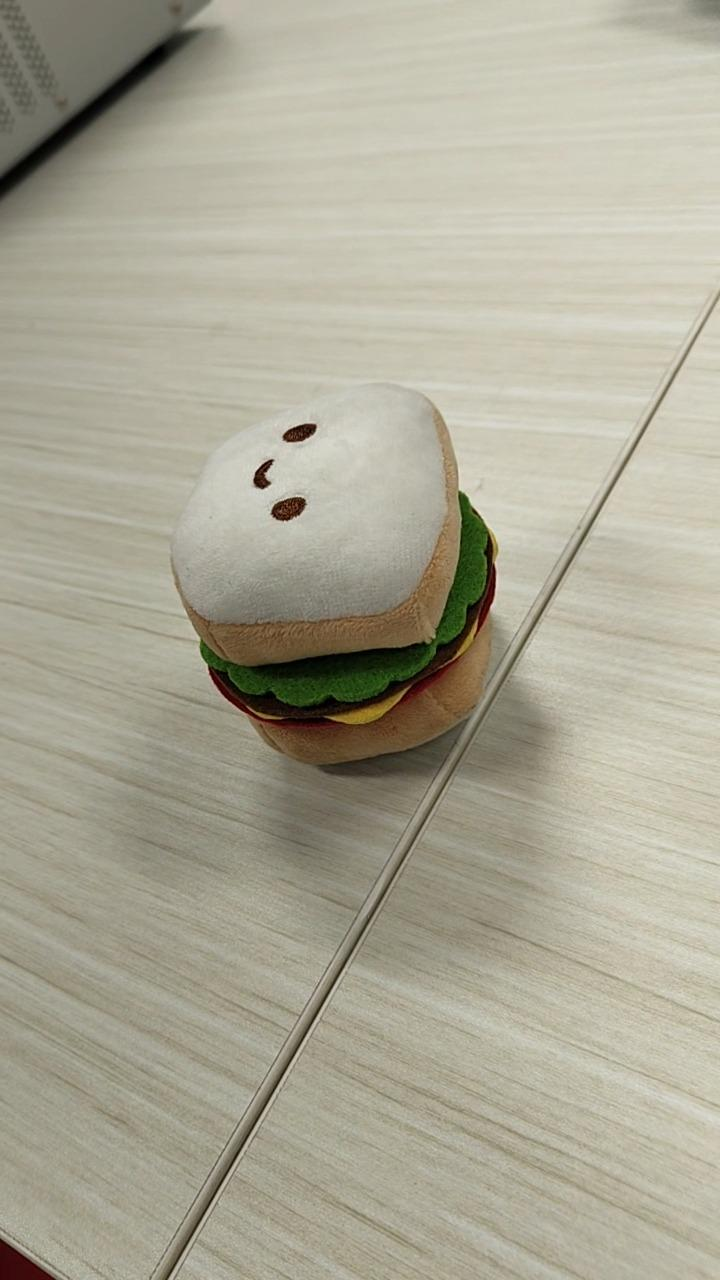objects: (168, 379, 499, 766)
